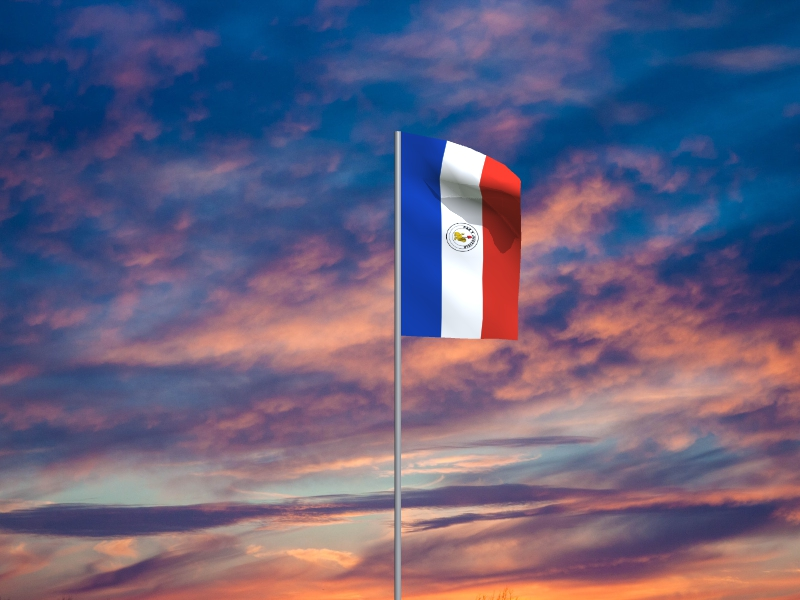py: (400, 133, 521, 342)
